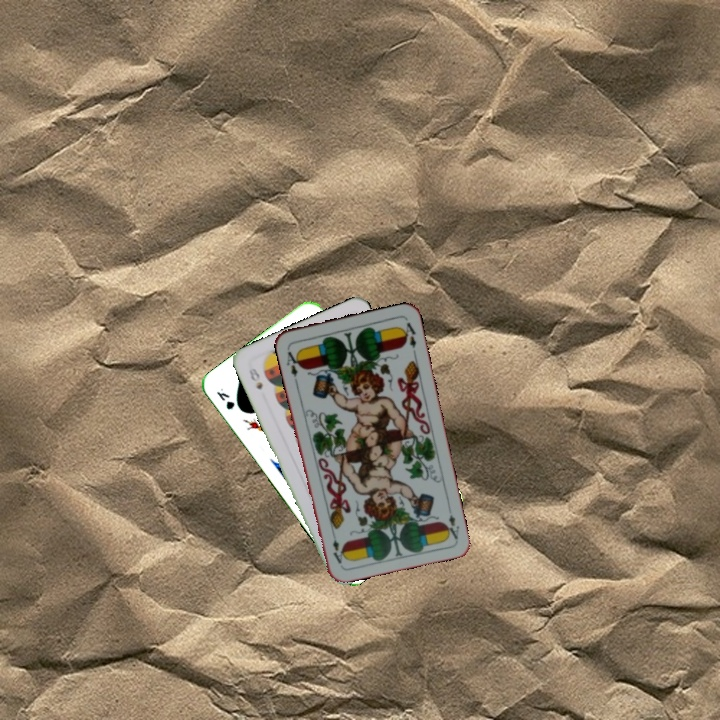EA: (282, 347, 303, 380), (441, 510, 462, 542)
GK: (212, 384, 237, 412)
S8: (245, 364, 265, 392)
